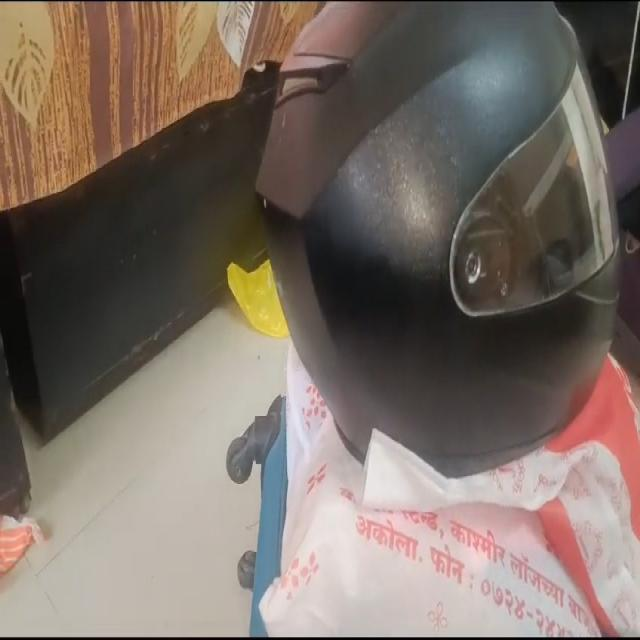Helmet: (253, 4, 620, 482)
